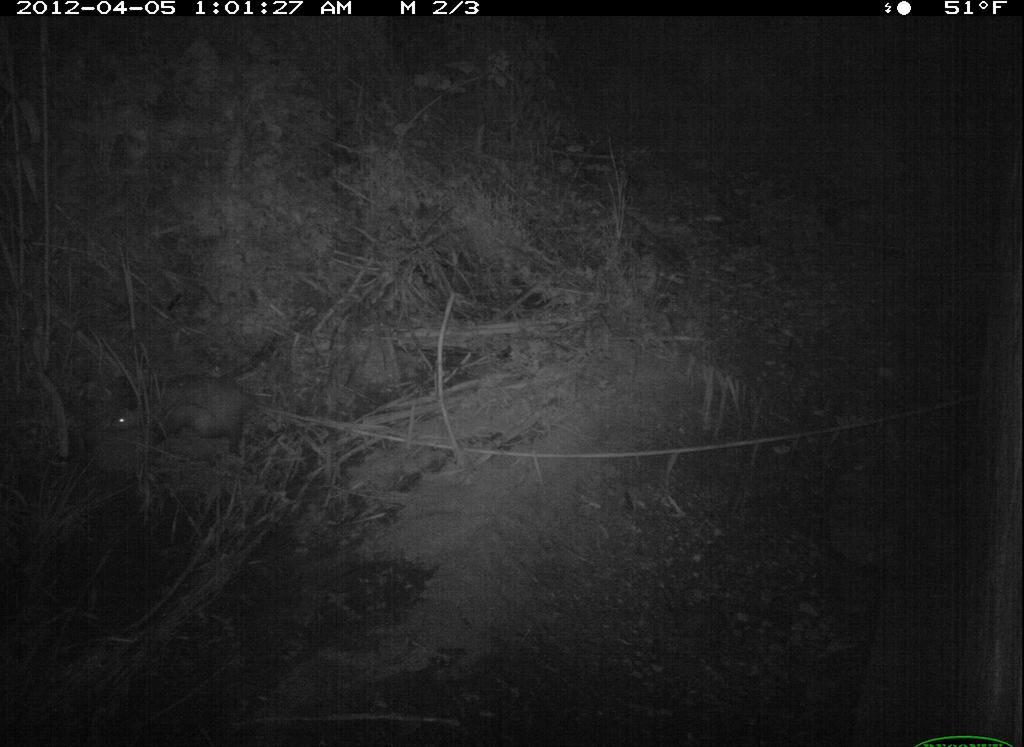opossum: (94, 364, 272, 465)
